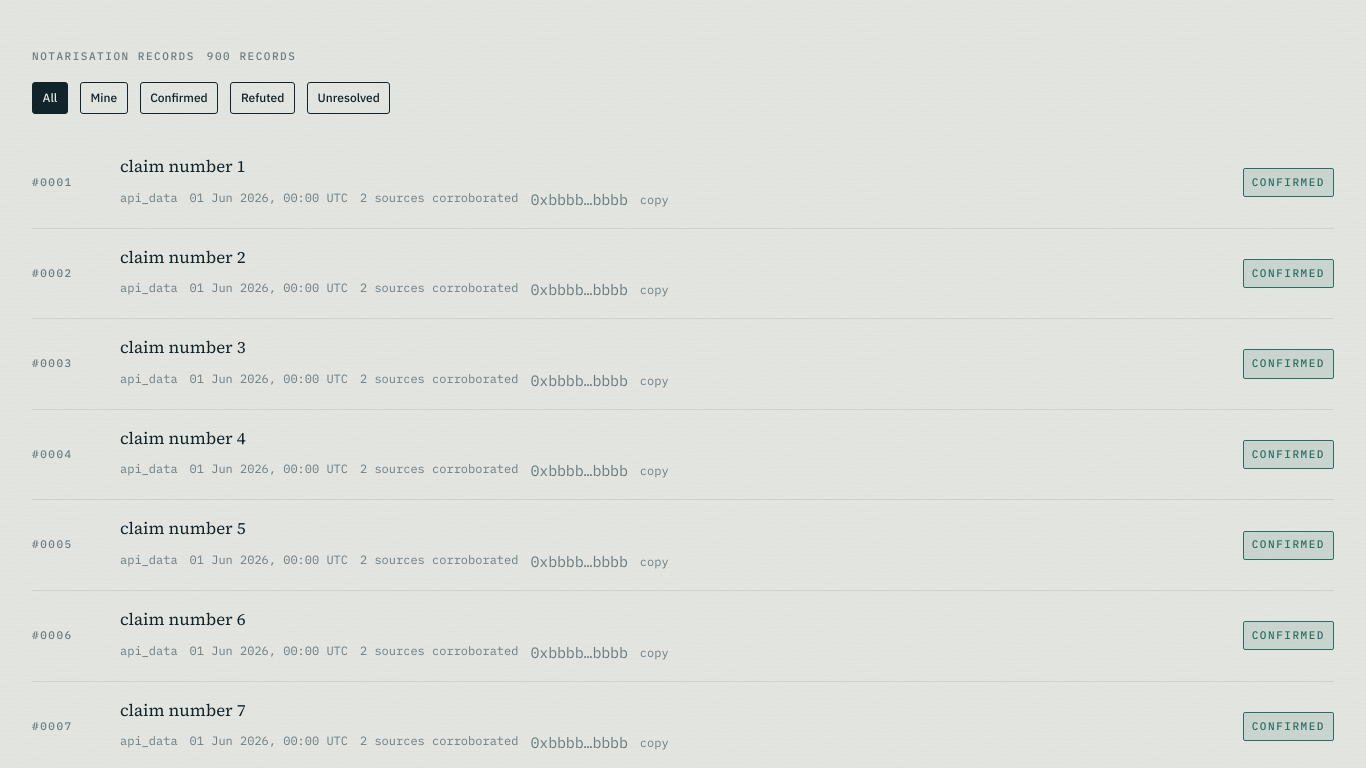
Scenario: Records: Mine filter › says when the scan was cut short
The image size is (1366, 768).
Click the button "Mine" at (104, 98), box [80,82,128,114]
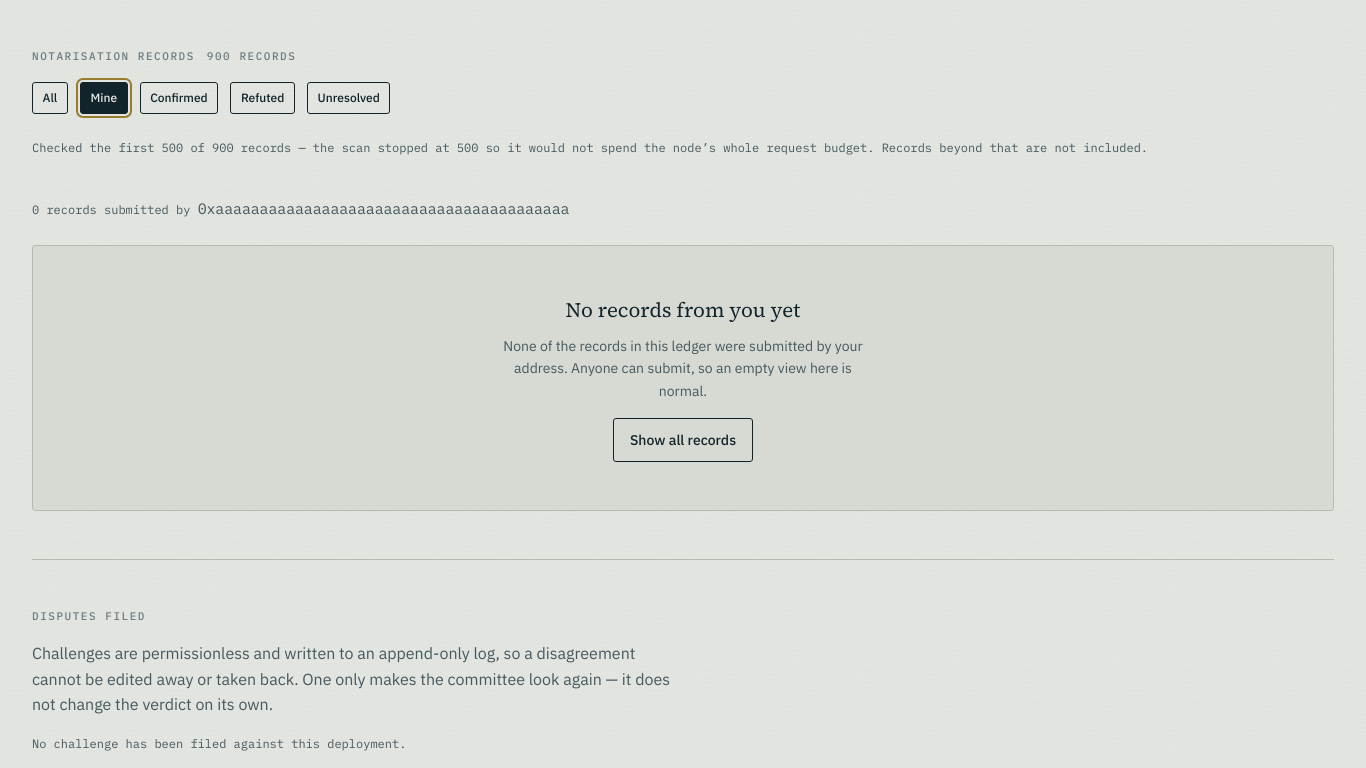
expect the text "stopped at" is shown: met, box [234,140,457,155]
